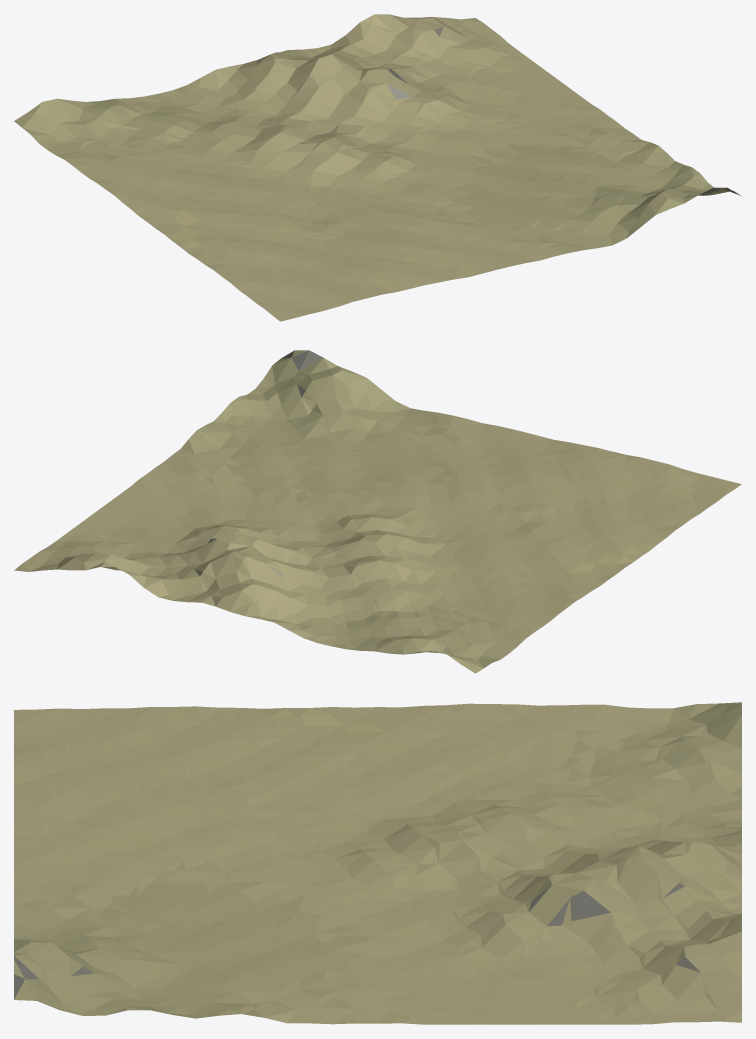
File: Ground_6_3.glb
3 views of the same model, one above another, from view 1: azimuth 30°, elevation 25°; view 2: azimuth 150°, elevation 25°; view 3: azimuth 270°, elevation 25° (orthographic). The views are drawn at different scales.
Visible parts, largest first — view 1: Ground_6_3; view 2: Ground_6_3; view 3: Ground_6_3.
Part boxes in pixels (x1=…): Ground_6_3: x1=14, y1=14, x2=740, y2=321; Ground_6_3: x1=14, y1=350, x2=741, y2=673; Ground_6_3: x1=14, y1=702, x2=741, y2=1024.
Size of the model in its own units: 768 by 57.51 by 768.
